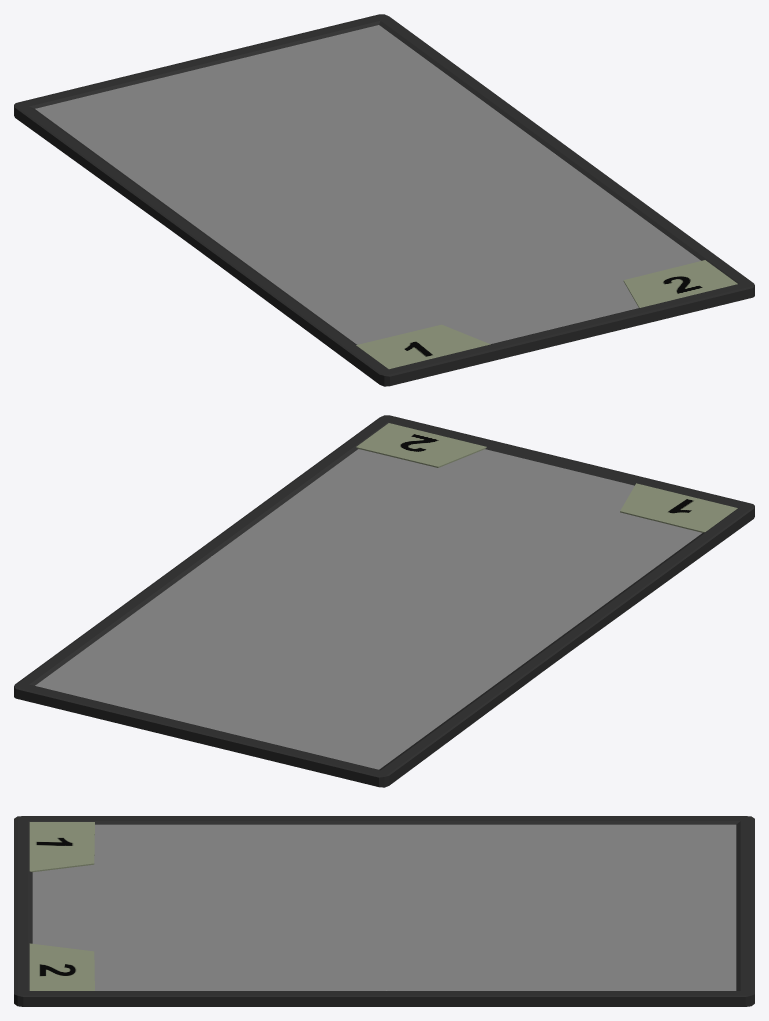
File: Blank Card.fbx
3 views of the same model, one above another, from view 1: azimuth 30°, elevation 25°; view 2: azimuth 150°, elevation 25°; view 3: azimuth 270°, elevation 25° (orthographic).
Visible parts, largest first — view 1: Card, Sensitivity, Size; view 2: Card, Sensitivity, Size; view 3: Card, Sensitivity, Size.
Part boxes in pixels (left/top/right/bottom): Card: left=14, top=14, right=754, bottom=386; Sensitivity: left=356, top=324, right=490, bottom=369; Size: left=623, top=260, right=737, bottom=307; Card: left=14, top=415, right=754, bottom=787; Sensitivity: left=620, top=483, right=737, bottom=532; Size: left=356, top=423, right=486, bottom=467; Card: left=14, top=816, right=754, bottom=1006; Sensitivity: left=29, top=822, right=94, bottom=872; Size: left=29, top=943, right=94, bottom=990.
Bounding box in the file's own units: 212 × 5.83 × 367.
